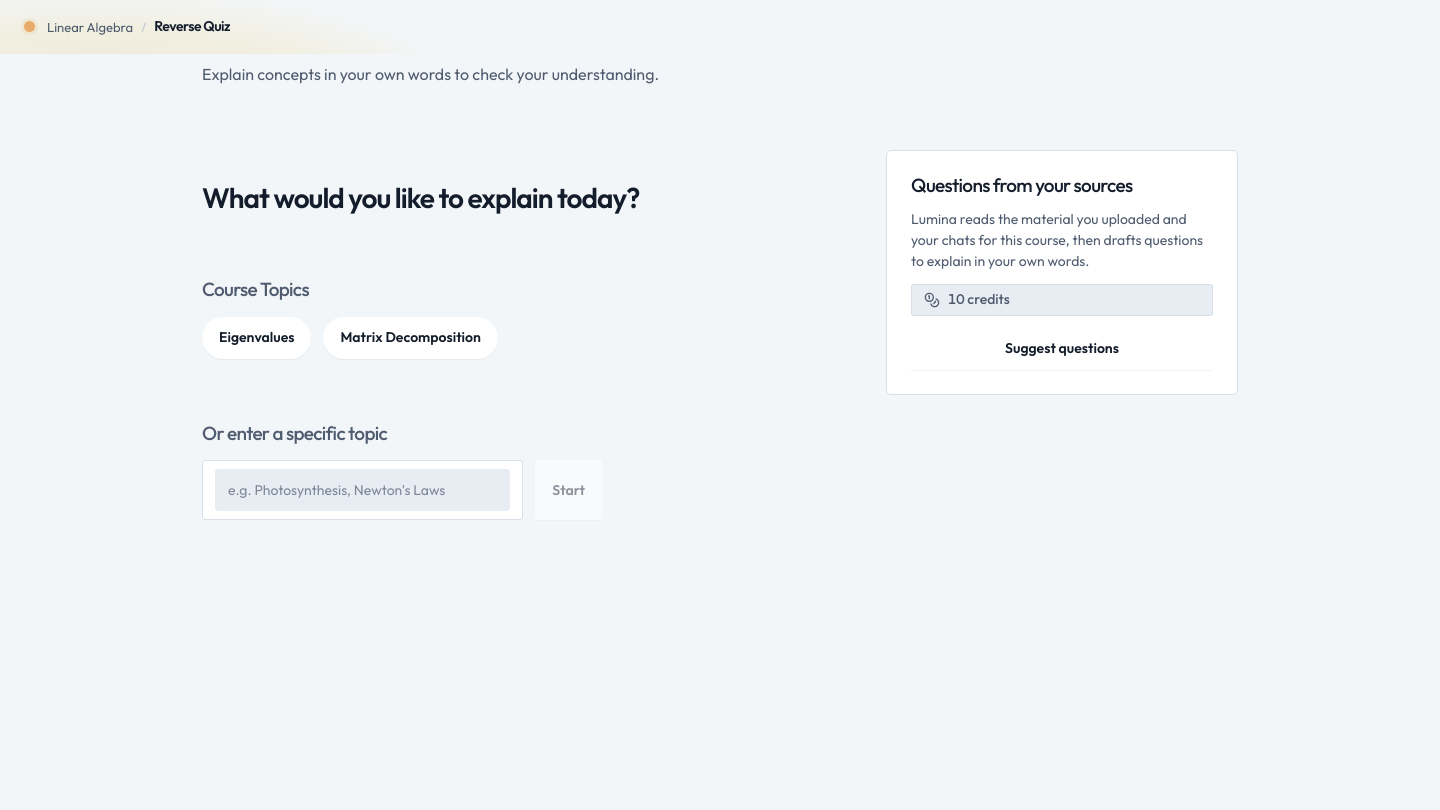
Test case: ReverseQuizPage › starts a reverse quiz session when a topic button is clicked
Step 1. Click the button "Eigenvalues" → click(257, 338), box [202,316,312,358]
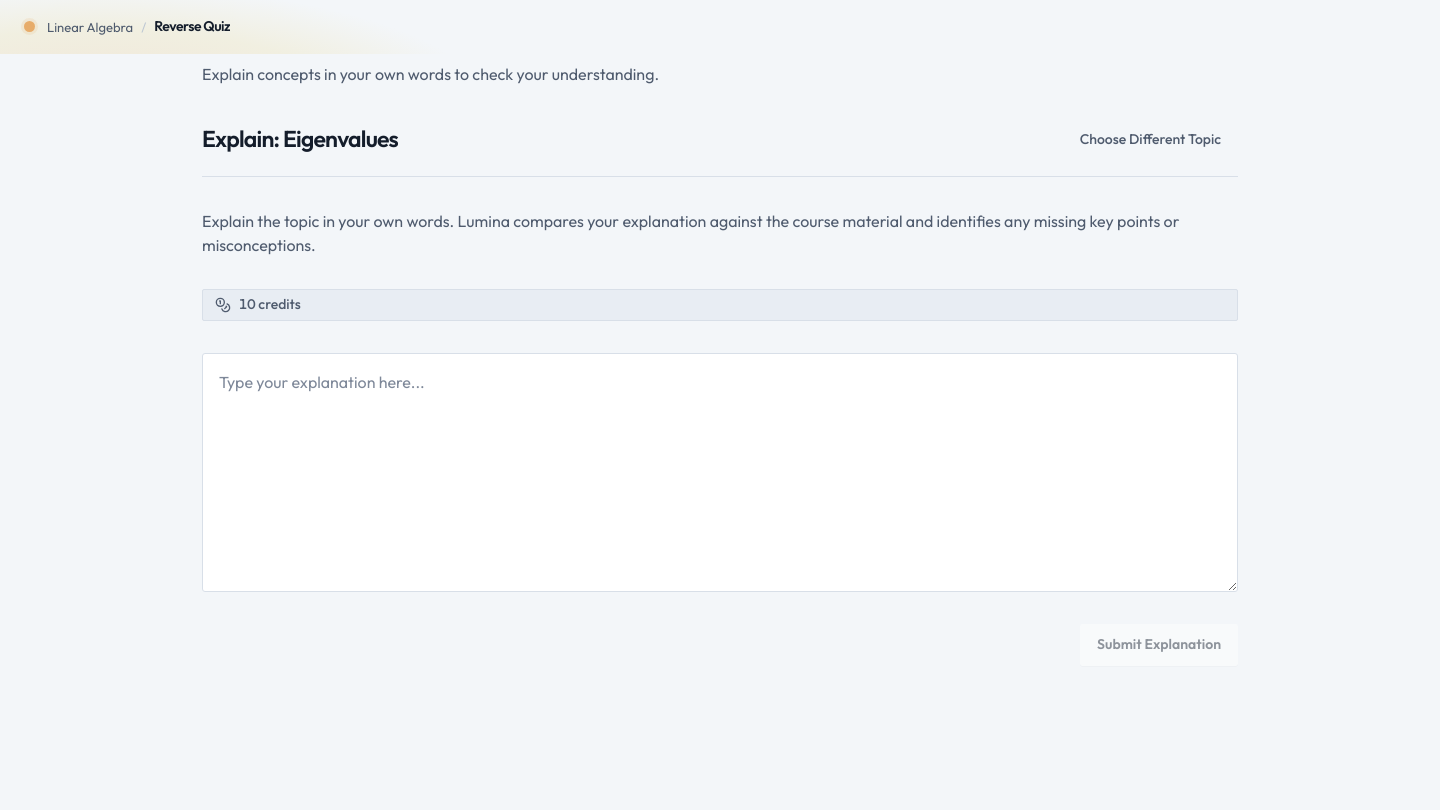
Check: the heading "Explain: Eigenvalues" is shown, box [202,126,398,153]
Check: the text box is shown, box [202,353,1238,592]
Check: the button "Submit Explanation" is shown, box [1080,624,1238,666]
